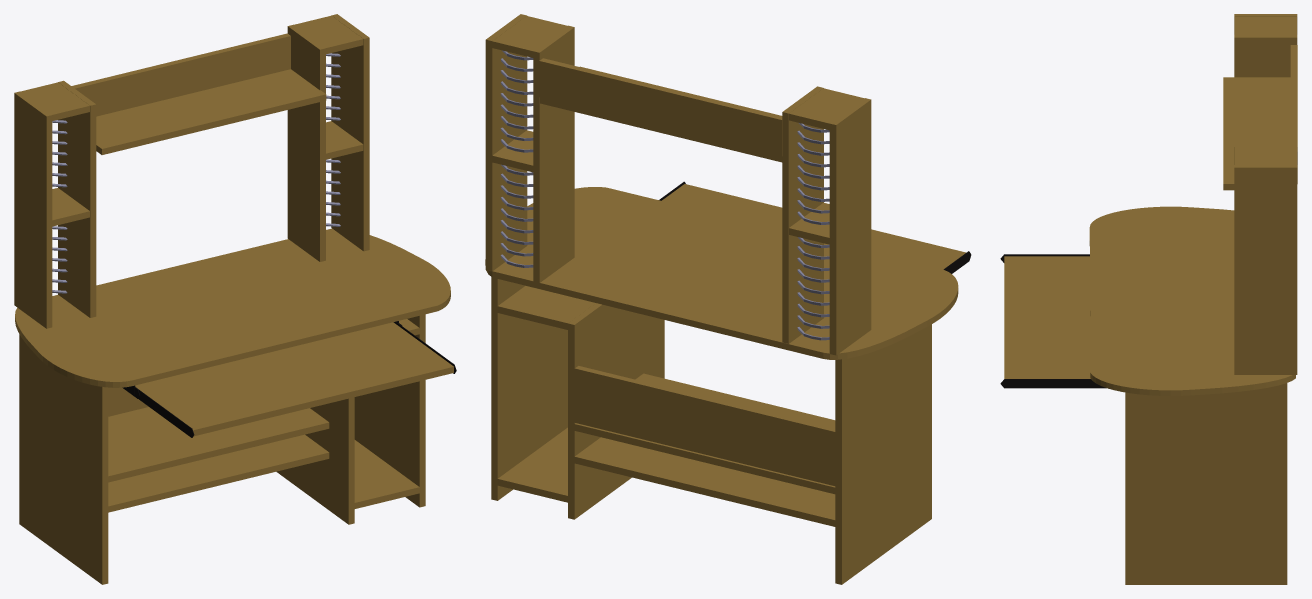
Rendered from pcstul.obj.
3 renders of one model, left to right at view 1: azimuth 30°, elevation 25°; view 2: azimuth 150°, elevation 25°; view 3: azimuth 270°, elevation 25°, orthographic. The views are drawn at different scales.
Visible parts, largest first — view 1: Circle_Wood_Wood_Wood_Circle_Wood_Wood_Wood_Wood, Cube.008_Cube.009_Woo_Cube.008_Cube.009_Woo_Wood, Cube_Cube.001_Wood_Wo_Cube_Cube.001_Wood_Wo_Wood, Cube.017_Cube.019_Woo_Cube.017_Cube.019_Woo_Wood, Cube.003_Cube.004_Woo_Cube.003_Cube.004_Woo_Wood, Cube.007_Cube.008_Woo_Cube.007_Cube.008_Woo_Wood, Cube.018_Cube.020_Woo_Cube.018_Cube.020_Woo_Wood, Cube.016_Cube.018_Woo_Cube.016_Cube.018_Woo_Wood, Cube.010_Cube.012_Woo_Cube.010_Cube.012_Woo_Wood, Cube.015_Cube.017_Woo_Cube.015_Cube.017_Woo_Wood, Cube.006_Cube.007_Woo_Cube.006_Cube.007_Woo_Wood, Cube.001_Cube.002_Woo_Cube.001_Cube.002_Woo_Wood (+10 smaller); view 2: Circle_Wood_Wood_Wood_Circle_Wood_Wood_Wood_Wood, Cube_Cube.001_Wood_Wo_Cube_Cube.001_Wood_Wo_Wood, Cube.009_Cube.011_Woo_Cube.009_Cube.011_Woo_Wood, Cube.001_Cube.002_Woo_Cube.001_Cube.002_Woo_Wood, Cube.003_Cube.004_Woo_Cube.003_Cube.004_Woo_Wood, Cube.018_Cube.020_Woo_Cube.018_Cube.020_Woo_Wood, Cube.002_Cube.003_Woo_Cube.002_Cube.003_Woo_Wood, Cube.006_Cube.007_Woo_Cube.006_Cube.007_Woo_Wood, Cube.016_Cube.018_Woo_Cube.016_Cube.018_Woo_Wood, Cube.015_Cube.017_Woo_Cube.015_Cube.017_Woo_Wood, Cube.010_Cube.012_Woo_Cube.010_Cube.012_Woo_Wood, Cube.008_Cube.009_Woo_Cube.008_Cube.009_Woo_Wood (+10 smaller); view 3: Cube.001_Cube.002_Woo_Cube.001_Cube.002_Woo_Wood, Circle_Wood_Wood_Wood_Circle_Wood_Wood_Wood_Wood, Cube.015_Cube.017_Woo_Cube.015_Cube.017_Woo_Wood, Cube.008_Cube.009_Woo_Cube.008_Cube.009_Woo_Wood, Cube.017_Cube.019_Woo_Cube.017_Cube.019_Woo_Wood, Cube.010_Cube.012_Woo_Cube.010_Cube.012_Woo_Wood, Cube.012_Cube.014_Woo_Cube.012_Cube.014_Woo_Wood, Cube.013_Cube.015_Woo_Cube.013_Cube.015_Woo_Wood, Circle.004_Circle.006_Circle.004_Circle.006_black_metal, Cube.018_Cube.020_Woo_Cube.018_Cube.020_Woo_Wood.
Boxes of the visible parts, bbox=[...] form: Circle_Wood_Wood_Wood_Circle_Wood_Wood_Wood_Wood: bbox=[15, 228, 450, 387]; Cube.008_Cube.009_Woo_Cube.008_Cube.009_Woo_Wood: bbox=[135, 322, 453, 436]; Cube_Cube.001_Wood_Wo_Cube_Cube.001_Wood_Wo_Wood: bbox=[19, 334, 108, 584]; Cube.017_Cube.019_Woo_Cube.017_Cube.019_Woo_Wood: bbox=[96, 69, 326, 154]; Cube.003_Cube.004_Woo_Cube.003_Cube.004_Woo_Wood: bbox=[14, 91, 52, 328]; Cube.007_Cube.008_Woo_Cube.007_Cube.008_Woo_Wood: bbox=[108, 407, 329, 482]; Cube.018_Cube.020_Woo_Cube.018_Cube.020_Woo_Wood: bbox=[71, 33, 290, 116]; Cube.016_Cube.018_Woo_Cube.016_Cube.018_Woo_Wood: bbox=[287, 24, 325, 261]; Cube.010_Cube.012_Woo_Cube.010_Cube.012_Woo_Wood: bbox=[58, 80, 96, 317]; Cube.015_Cube.017_Woo_Cube.015_Cube.017_Woo_Wood: bbox=[331, 14, 369, 251]; Cube.006_Cube.007_Woo_Cube.006_Cube.007_Woo_Wood: bbox=[108, 434, 329, 512]; Cube.001_Cube.002_Woo_Cube.001_Cube.002_Woo_Wood: bbox=[354, 314, 425, 507]; Circle_Wood_Wood_Wood_Circle_Wood_Wood_Wood_Wood: bbox=[485, 187, 958, 359]; Cube_Cube.001_Wood_Wo_Cube_Cube.001_Wood_Wo_Wood: bbox=[835, 324, 931, 584]; Cube.009_Cube.011_Woo_Cube.009_Cube.011_Woo_Wood: bbox=[574, 366, 835, 485]; Cube.001_Cube.002_Woo_Cube.001_Cube.002_Woo_Wood: bbox=[491, 277, 567, 500]; Cube.003_Cube.004_Woo_Cube.003_Cube.004_Woo_Wood: bbox=[829, 98, 871, 355]; Cube.018_Cube.020_Woo_Cube.018_Cube.020_Woo_Wood: bbox=[538, 58, 782, 156]; Cube.002_Cube.003_Woo_Cube.002_Cube.003_Woo_Wood: bbox=[568, 303, 664, 519]; Cube.006_Cube.007_Woo_Cube.006_Cube.007_Woo_Wood: bbox=[574, 437, 835, 526]; Cube.016_Cube.018_Woo_Cube.016_Cube.018_Woo_Wood: bbox=[533, 25, 574, 282]; Cube.015_Cube.017_Woo_Cube.015_Cube.017_Woo_Wood: bbox=[485, 14, 527, 271]; Cube.010_Cube.012_Woo_Cube.010_Cube.012_Woo_Wood: bbox=[782, 86, 823, 343]; Cube.008_Cube.009_Woo_Cube.008_Cube.009_Woo_Wood: bbox=[662, 184, 965, 269]; Cube.001_Cube.002_Woo_Cube.001_Cube.002_Woo_Wood: bbox=[1125, 383, 1287, 584]; Circle_Wood_Wood_Wood_Circle_Wood_Wood_Wood_Wood: bbox=[1089, 206, 1295, 395]; Cube.015_Cube.017_Woo_Cube.015_Cube.017_Woo_Wood: bbox=[1234, 165, 1297, 374]; Cube.008_Cube.009_Woo_Cube.008_Cube.009_Woo_Wood: bbox=[1004, 256, 1090, 378]; Cube.017_Cube.019_Woo_Cube.017_Cube.019_Woo_Wood: bbox=[1223, 77, 1290, 190]; Cube.010_Cube.012_Woo_Cube.010_Cube.012_Woo_Wood: bbox=[1234, 34, 1297, 77]; Cube.012_Cube.014_Woo_Cube.012_Cube.014_Woo_Wood: bbox=[1234, 17, 1296, 34]; Cube.013_Cube.015_Woo_Cube.013_Cube.015_Woo_Wood: bbox=[1234, 147, 1296, 164]; Circle.004_Circle.006_Circle.004_Circle.006_black_metal: bbox=[1000, 379, 1106, 388]; Cube.018_Cube.020_Woo_Cube.018_Cube.020_Woo_Wood: bbox=[1290, 45, 1297, 183].
Size of the model in its own units: 5.37 by 5.68 by 3.67.
